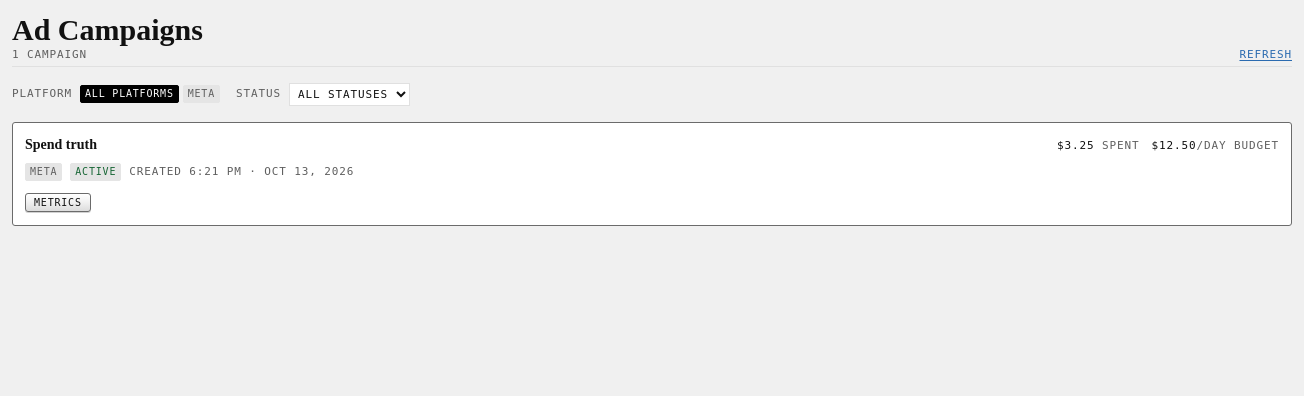
Test: V26/L6 — ads spend renders null and measured zero distinctly › dashes an unmeasured spend and prints a measured zero as $0.00
The image size is (1304, 396).
Expected: the element with test id "campaign-row" is shown, [12,122,1292,226]
What coordinates should you click on to do the following:
click the button with test id "campaign-metrics-toggle-7"
I would click on:
 (58, 203)
Its box is [25,193,91,212].
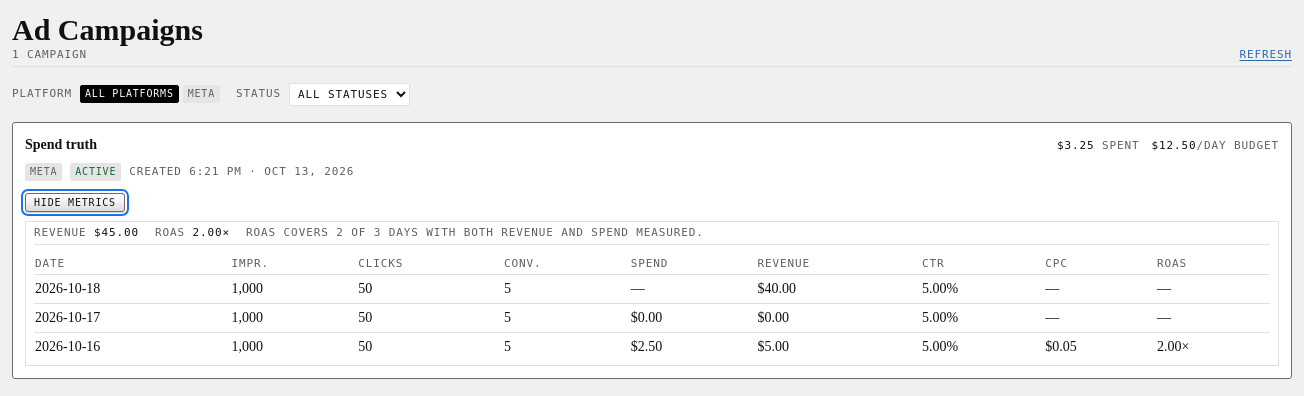
Expected: the element with test id "campaign-metrics-7" is shown, [25,221,1279,366]
Expected: the 1st cell "—" is shown, [630,275,756,304]
Expected: the 1st cell "$0.00" is shown, [630,304,756,333]
